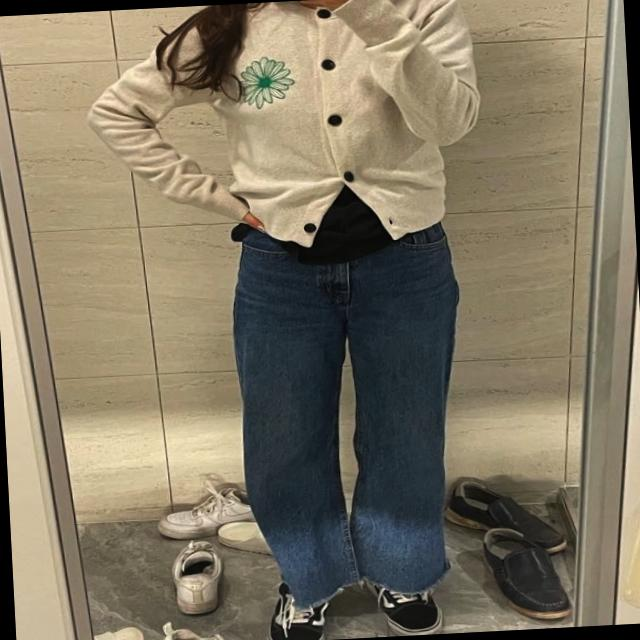cardigan: (83, 0, 486, 256)
denimpants: (228, 202, 476, 611)
